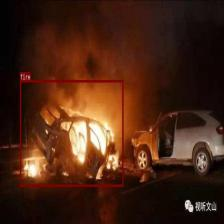fire: (20, 80, 123, 186)
